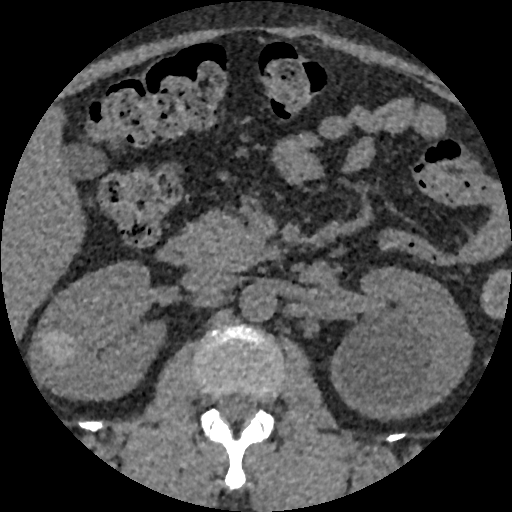Lesion: (32, 330, 80, 370)
